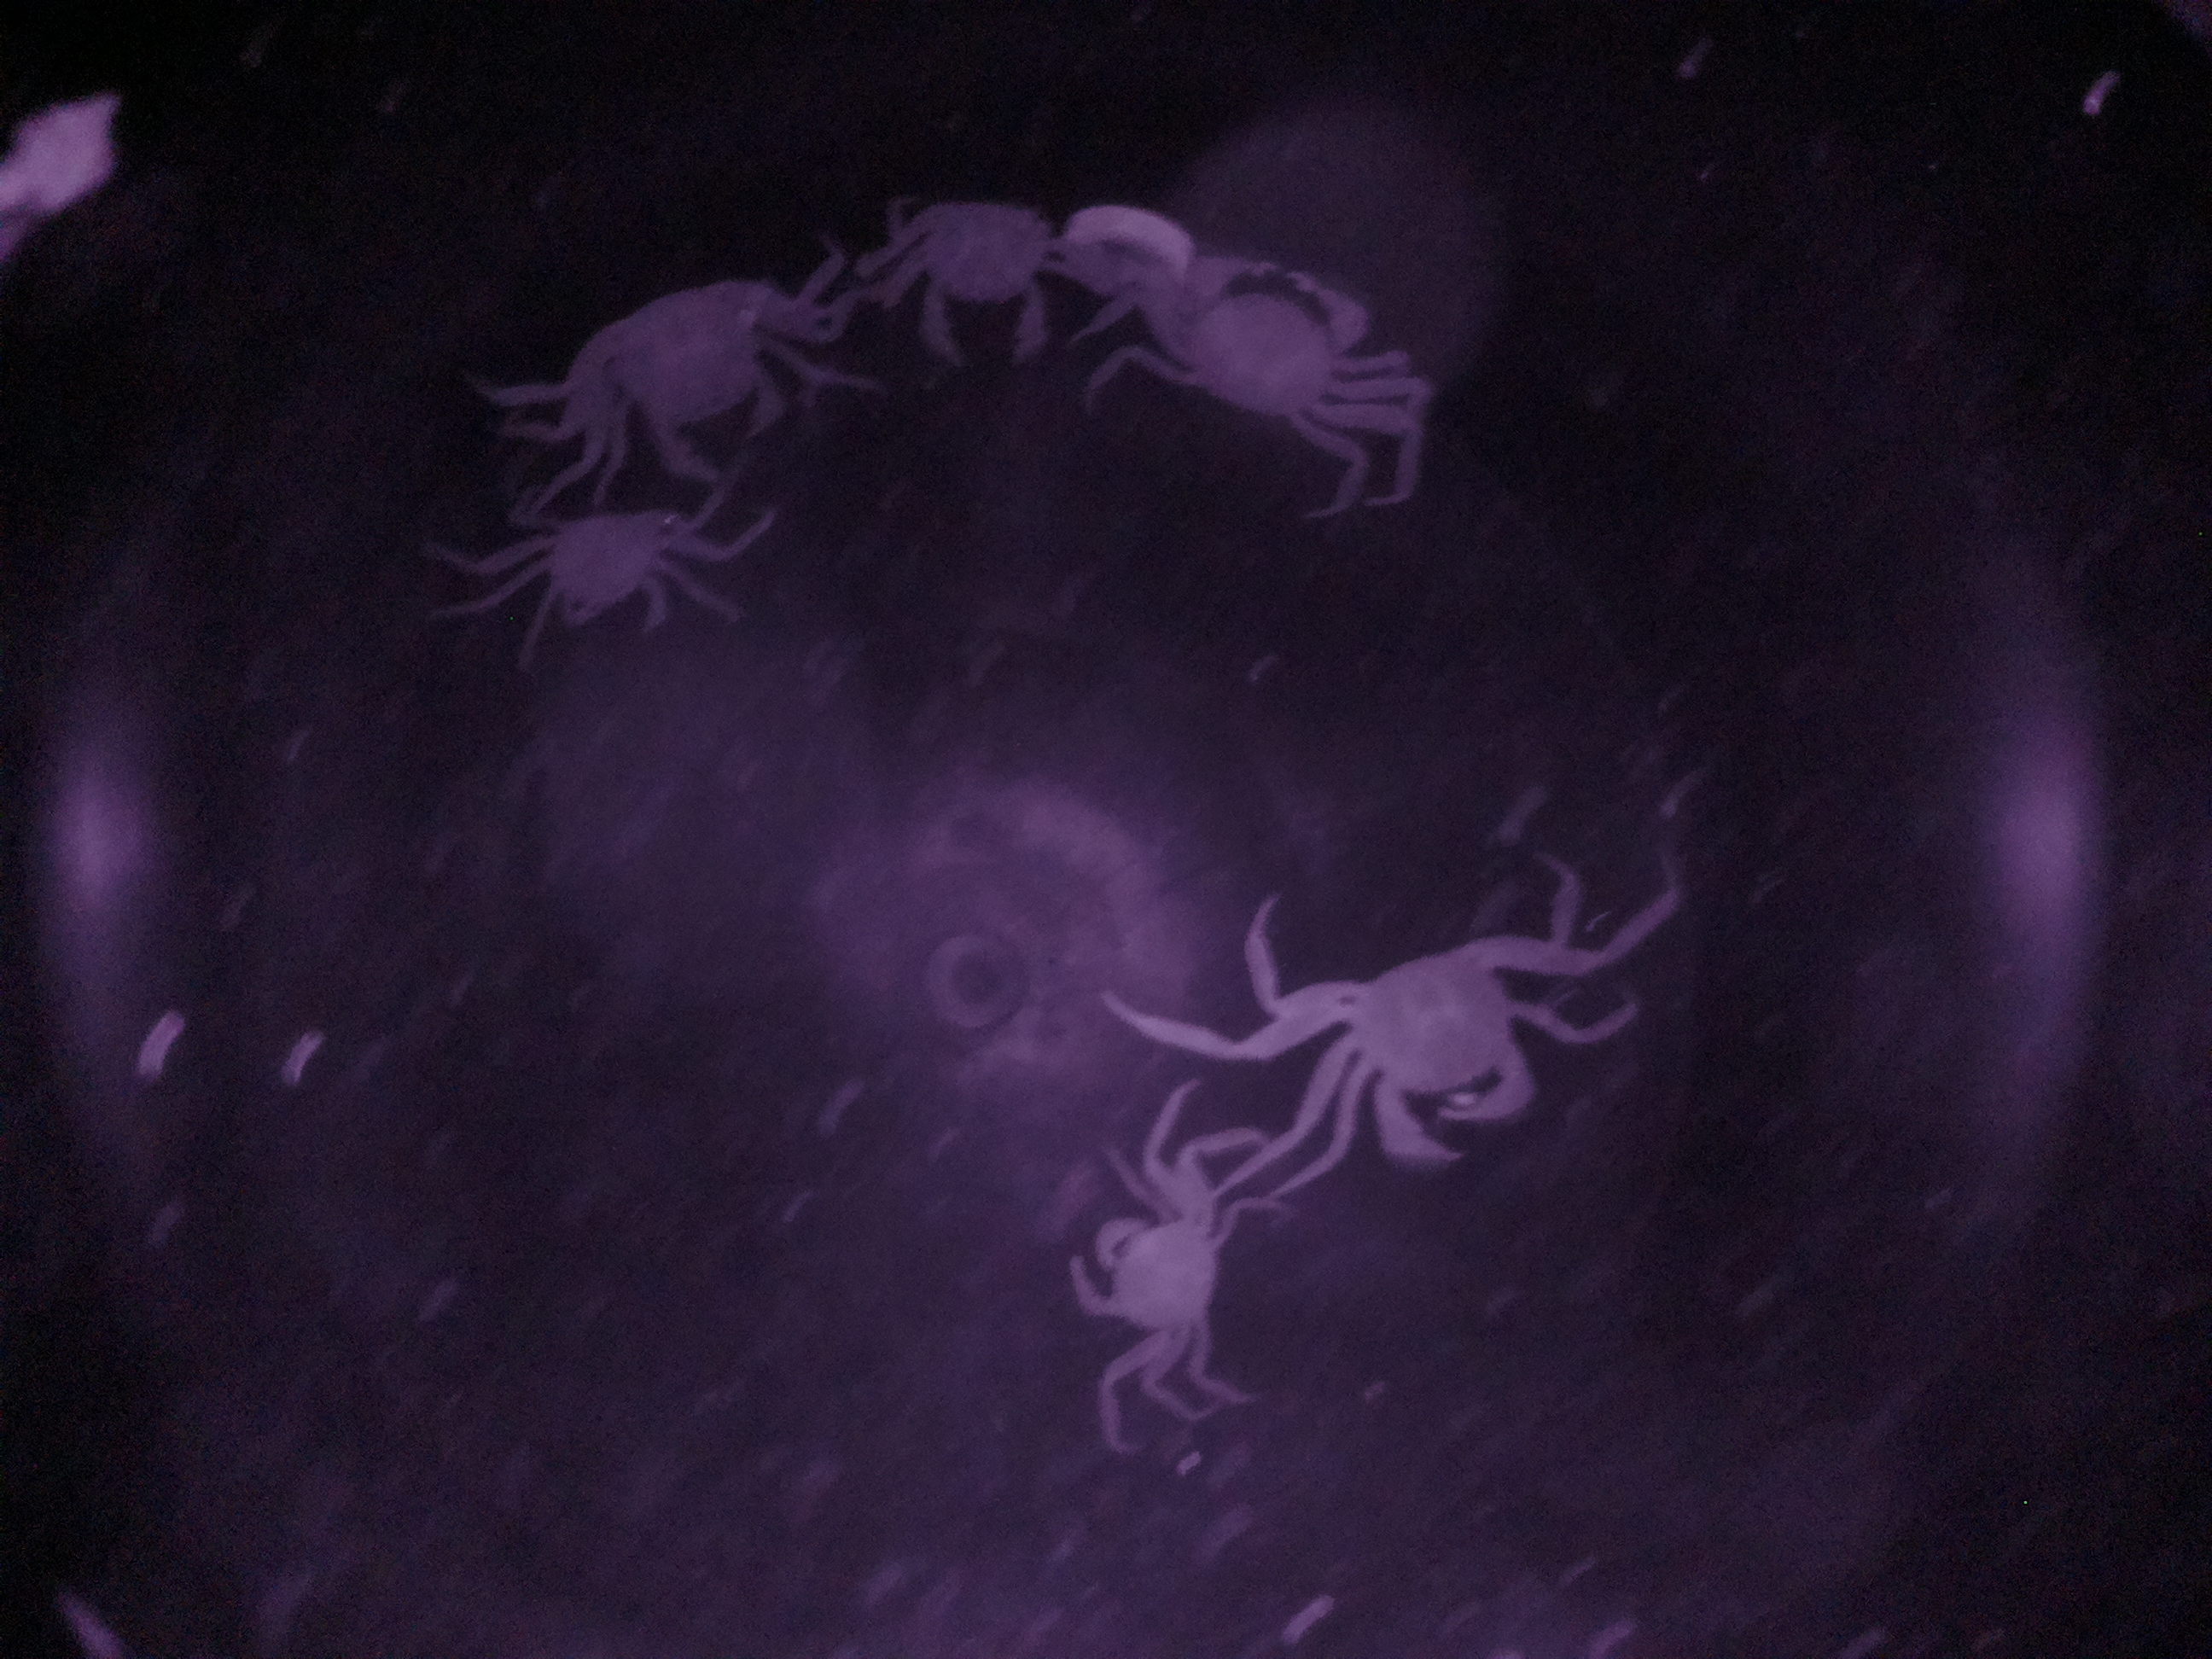Crab: (1282, 925, 1555, 1188), (1129, 244, 1383, 453), (578, 256, 794, 481), (514, 483, 721, 673), (892, 183, 1078, 383), (1061, 1150, 1235, 1361)
